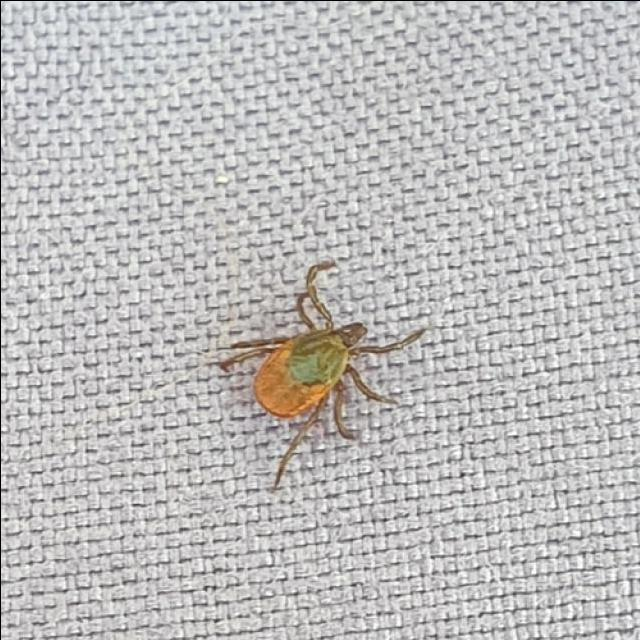Ixodes Ricinus-F: (216, 261, 425, 486)
